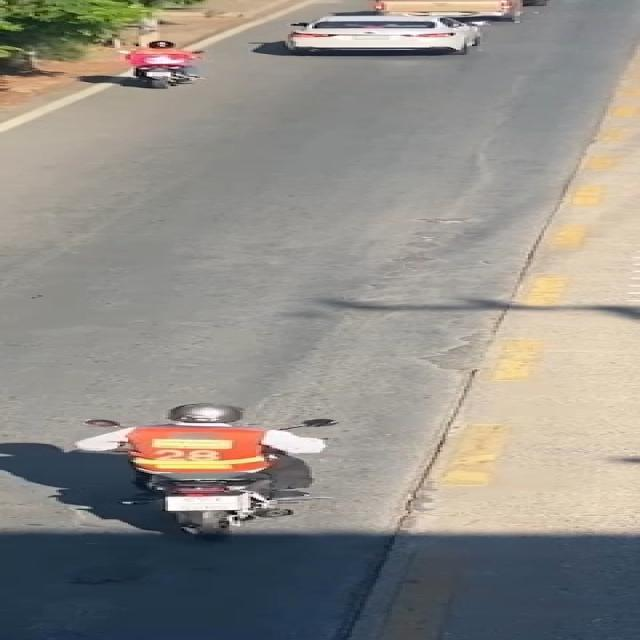car: (267, 9, 522, 57)
